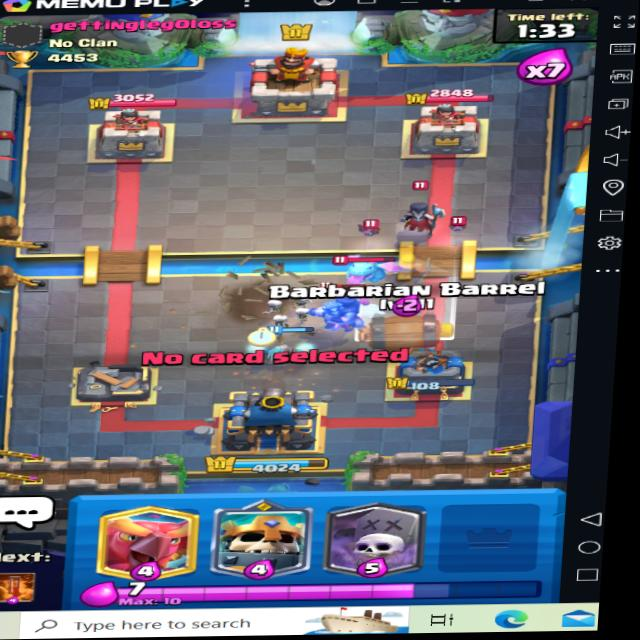baby-dragon: (337, 249, 401, 289)
bats: (347, 215, 393, 241), (448, 215, 469, 232)
dark-prince: (308, 283, 379, 342)
night-witch: (398, 182, 447, 235)
